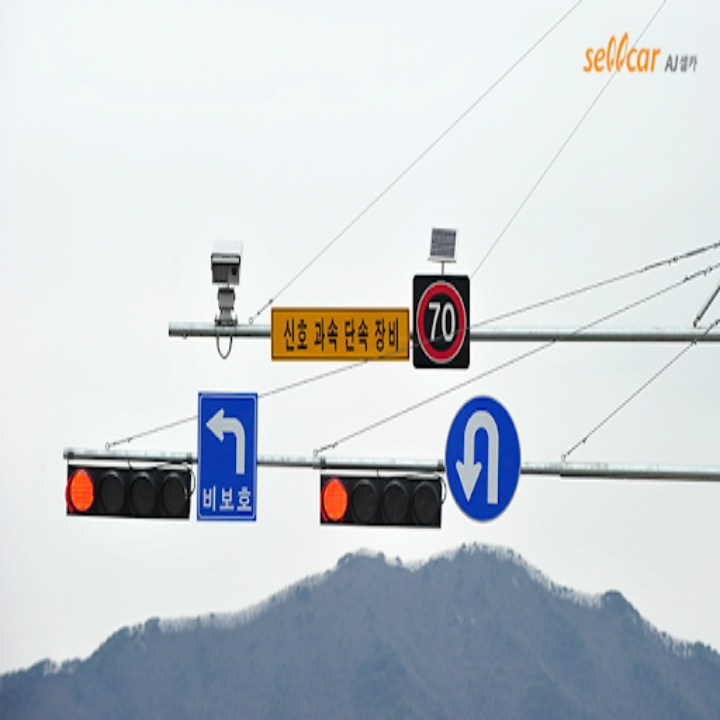left: (203, 404, 252, 480)
